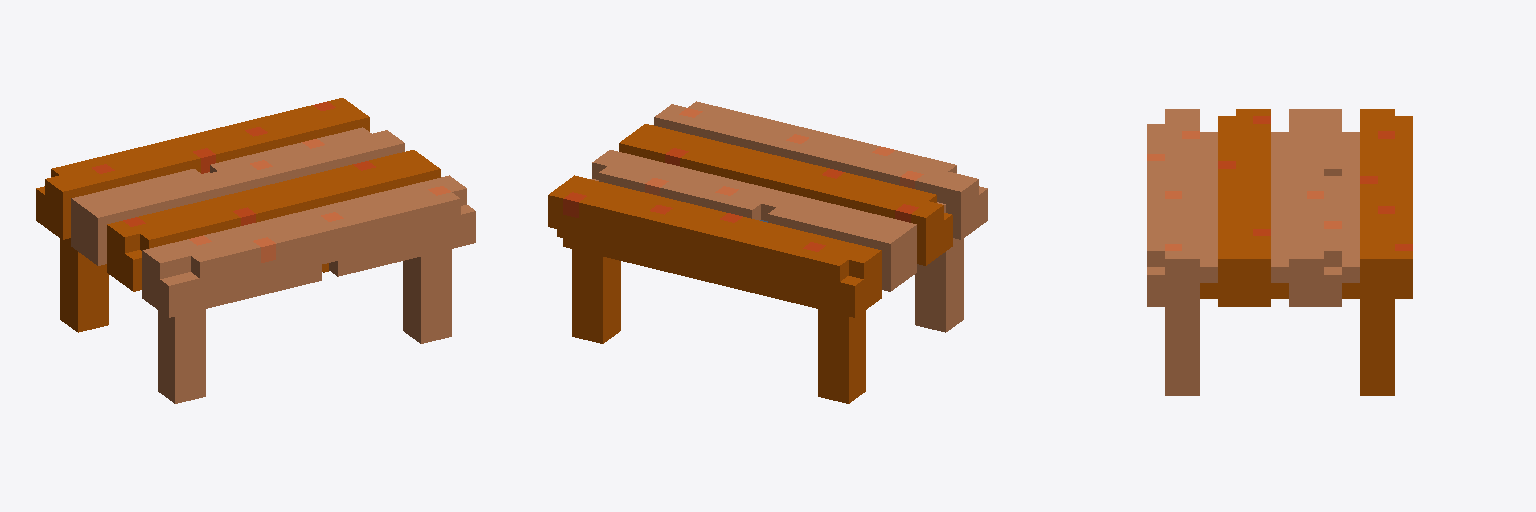
3 views of the same model, side by side, from view 1: azimuth 30°, elevation 25°; view 2: azimuth 150°, elevation 25°; view 3: azimuth 270°, elevation 25° (orthographic).
Parts seen in each view (by area): view 1: Env_Obj_SideTable; view 2: Env_Obj_SideTable; view 3: Env_Obj_SideTable.
Part boxes in pixels (x1,y1,x2,y2): Env_Obj_SideTable: (36,98,475,403); Env_Obj_SideTable: (548,101,987,403); Env_Obj_SideTable: (1147,109,1412,395).
Bounding box in the file's own units: 2 × 0.9 × 1.5.
Materials: 1 (1 with a texture image).